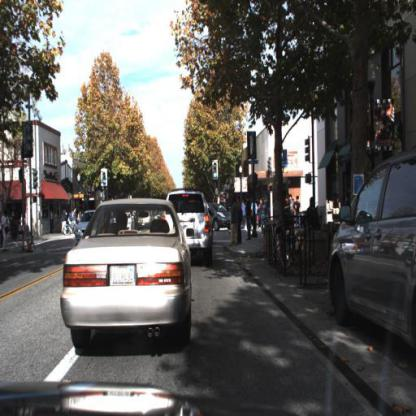car: (61, 196, 195, 352), (330, 142, 416, 361), (167, 188, 214, 263), (206, 199, 233, 235), (74, 208, 99, 246), (209, 203, 233, 231)
pedestrian: (230, 195, 242, 247), (243, 193, 255, 240), (302, 195, 320, 226), (1, 208, 12, 252), (260, 195, 271, 239), (238, 194, 243, 247), (239, 198, 248, 227), (252, 194, 259, 226), (294, 193, 301, 220)
trafficLight-Green: (212, 158, 220, 182), (101, 170, 108, 191)
